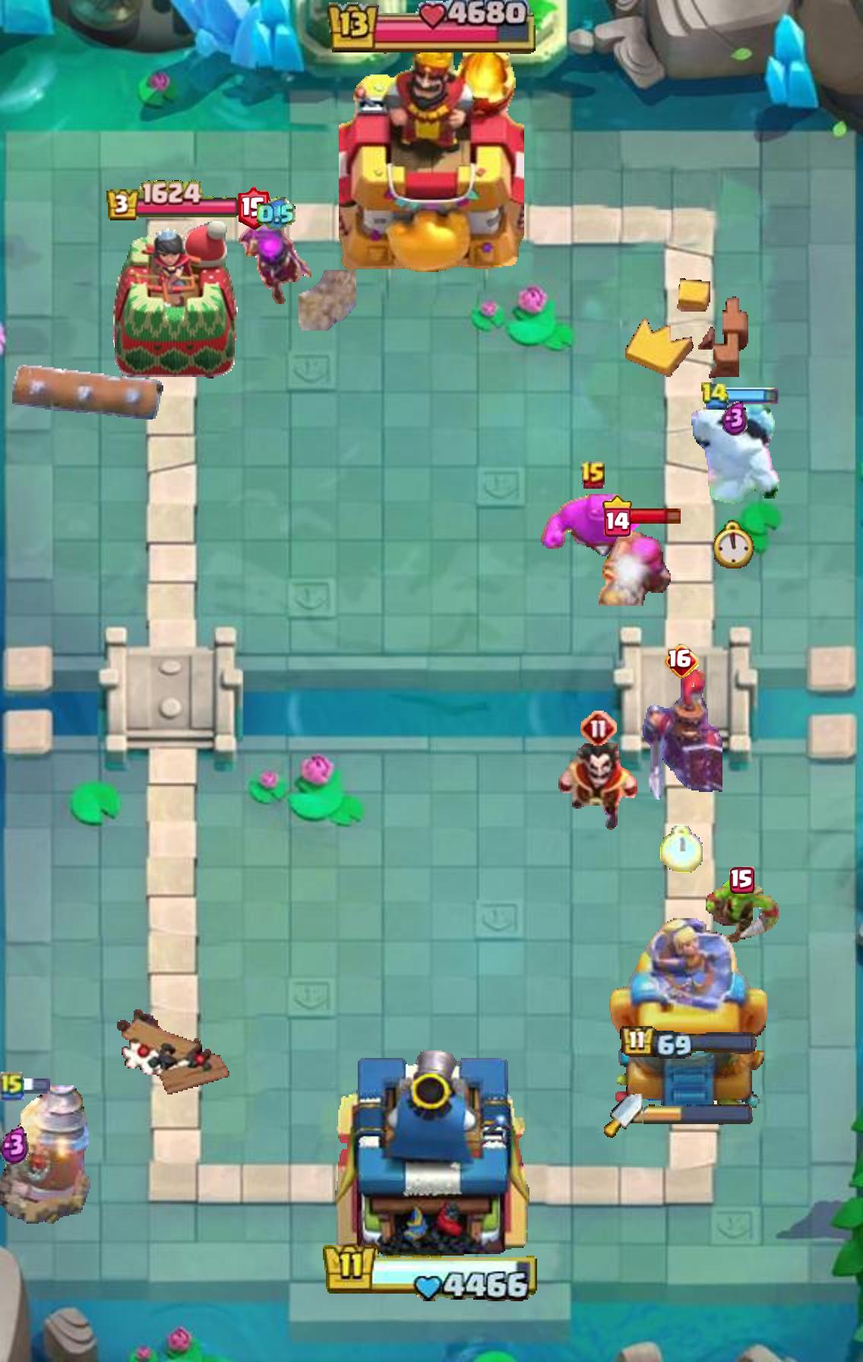elixir: (257, 197, 296, 232), (0, 1125, 30, 1164), (722, 401, 749, 436)
ice-golem: (689, 399, 780, 508)
